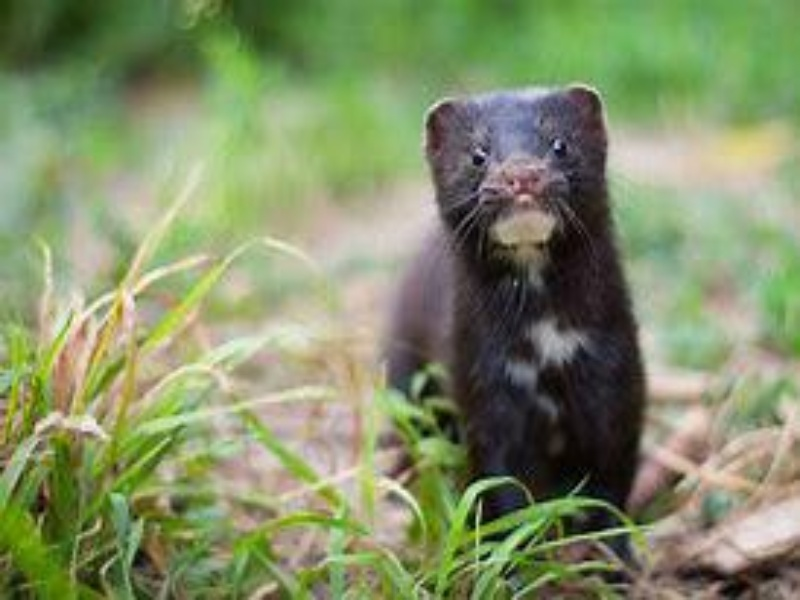minkish: (373, 77, 654, 586)
